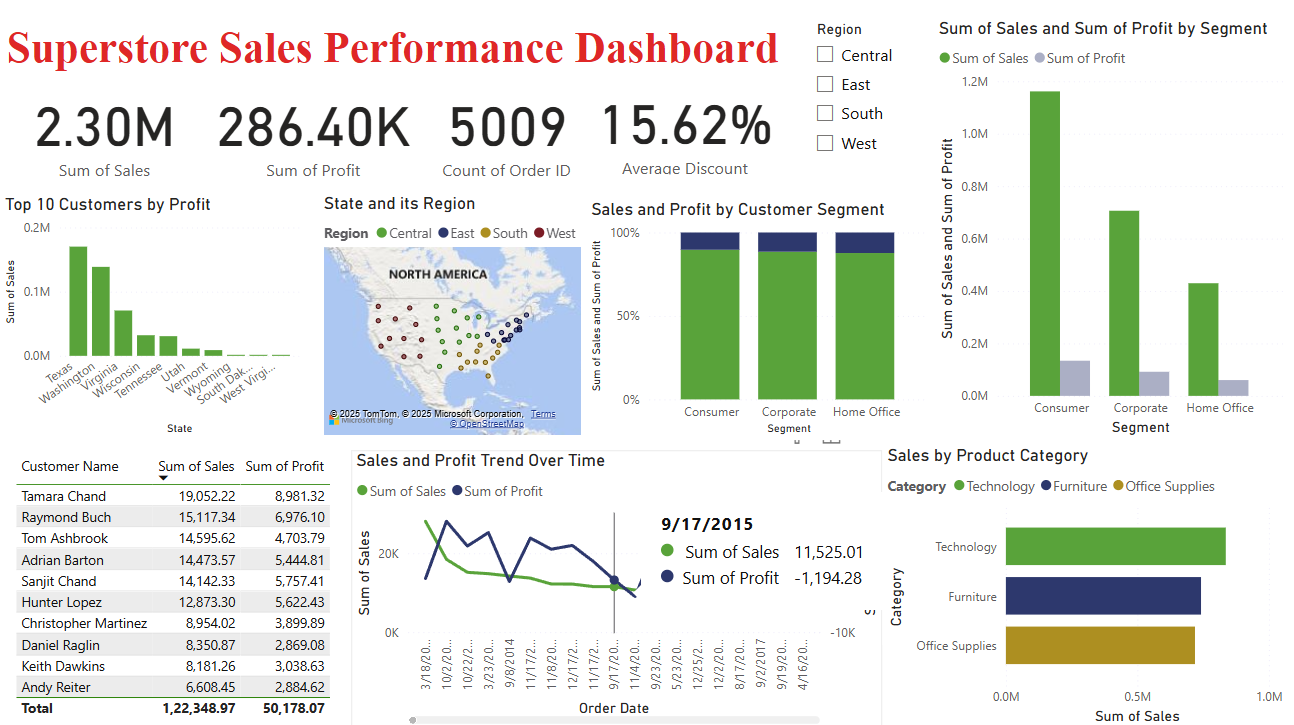

Layout of this report page (visuals, bound fields, positions):
{"tool":"powerbi","page":{"name":"Page 1","canvas":[1280,720],"ordinal":0},"visuals":[{"type":"textbox","box":[0,18.5,814.3,59.1],"z":0},{"type":"card","fields":{"Values":["Sample - Superstor xlsx.Sales"]},"box":[0,77.5,206.2,105],"z":1000},{"type":"card","fields":{"Values":["Sample - Superstor xlsx.Profit"]},"box":[206.2,77.5,206.2,105],"z":2000},{"type":"card","fields":{"Values":["Sample - Superstor xlsx.Order ID"]},"box":[421.2,77.5,156.2,105],"z":3000},{"type":"lineChart","title":"Sales and Profit Trend Over Time","fields":{"Category":["Sample - Superstor xlsx.Order Date"],"Y":["Sample - Superstor xlsx.Sales"],"Y2":["Sample - Superstor xlsx.Profit"]},"box":[346.2,445,523.8,275],"z":4000},{"type":"barChart","title":"Sales by Product Category","fields":{"Category":["Sample - Superstor xlsx.Category"],"Y":["Sample - Superstor xlsx.Sales"],"Series":["Sample - Superstor xlsx.Category"]},"box":[870,440,400,280],"z":5000},{"type":"columnChart","title":"Top 10 Customers by Profit","fields":{"Category":["Sample - Superstor xlsx.State"],"Y":["Sample - Superstor xlsx.Sales"]},"box":[0,192.5,300,242.5],"z":6000},{"type":"tableEx","fields":{"Values":["Sample - Superstor xlsx.Customer Name","Sample - Superstor xlsx.Sales","Sample - Superstor xlsx.Profit"]},"box":[10,445,322.5,275],"z":7000},{"type":"hundredPercentStackedColumnChart","title":"Sales and Profit by Customer Segment","fields":{"Y":["Sample - Superstor xlsx.Sales","Sample - Superstor xlsx.Profit"],"Category":["Sample - Superstor xlsx.Segment"]},"box":[577.5,197.5,342.5,237.5],"z":8000},{"type":"slicer","fields":{"Values":["Sample - Superstor xlsx.Region"]},"box":[792.5,16.2,127.5,151.2],"z":9000},{"type":"clusteredColumnChart","fields":{"Category":["Sample - Superstor xlsx.Segment"],"Y":["Sample - Superstor xlsx.Sales","Sample - Superstor xlsx.Profit"]},"box":[920.3,18.5,349.9,416.4],"z":10000},{"type":"map","title":"State and its Region","fields":{"Category":["Sample - Superstor xlsx.State"],"Series":["Sample - Superstor xlsx.Region"]},"box":[313.8,191.2,263.8,243.8],"z":11000},{"type":"card","fields":{"Values":["Sample - Superstor xlsx.Average Discount"]},"box":[577.5,77.5,195,100],"z":12000}]}

Visuals, with their boxes in screenshot pixels (x1, y1, x2, y2), scaled from the page's 1280x720 canvas onto the 1294x725 screenshot:
textbox: 0/19/823/78
card - Sample - Superstor xlsx.Sales: 0/78/208/184
card - Sample - Superstor xlsx.Profit: 208/78/417/184
card - Sample - Superstor xlsx.Order ID: 426/78/584/184
"Sales and Profit Trend Over Time" lineChart: 350/448/880/724
"Sales by Product Category" barChart: 880/443/1284/724
"Top 10 Customers by Profit" columnChart: 0/194/303/438
tableEx - Sample - Superstor xlsx.Customer Name x Sample - Superstor xlsx.Sales: 10/448/336/724
"Sales and Profit by Customer Segment" hundredPercentStackedColumnChart: 584/199/930/438
slicer - Sample - Superstor xlsx.Region: 801/16/930/169
clusteredColumnChart - Sample - Superstor xlsx.Segment x Sample - Superstor xlsx.Sales: 930/19/1284/438
"State and its Region" map: 317/193/584/438
card - Sample - Superstor xlsx.Average Discount: 584/78/781/179
